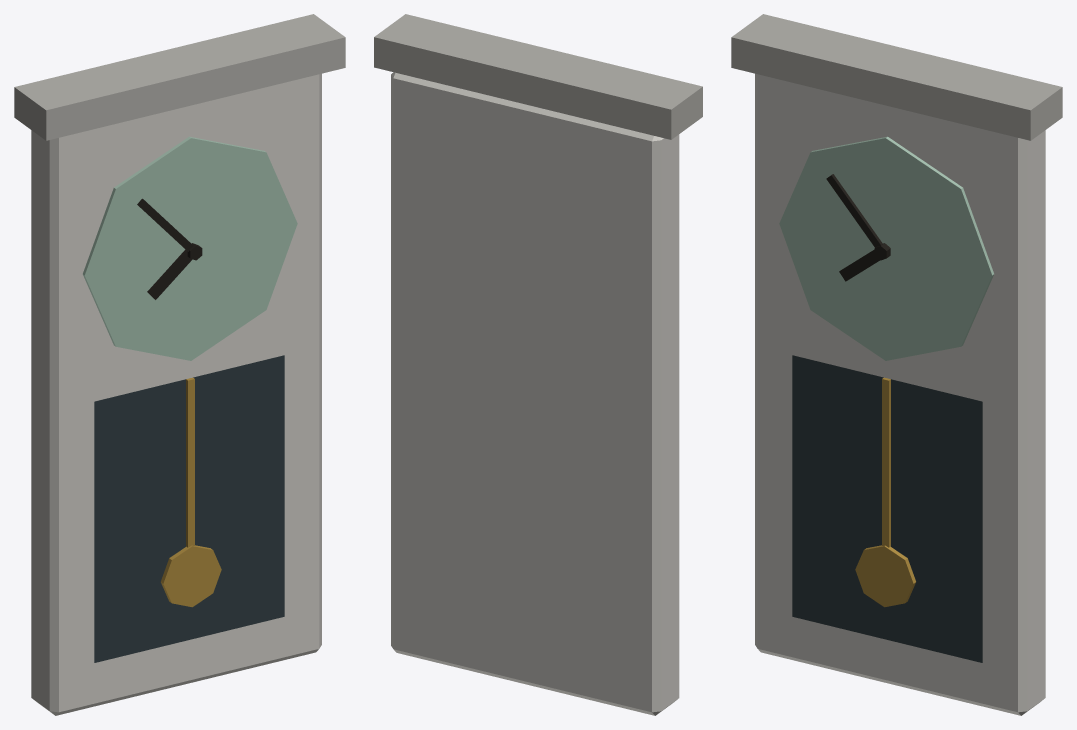
The model's file is wall-clock-22.glb.
3 renders of one model, left to right at view 1: azimuth 30°, elevation 25°; view 2: azimuth 150°, elevation 25°; view 3: azimuth 330°, elevation 25°, orthographic.
Parts seen in each view (by area): view 1: wall_clock_22; view 2: wall_clock_22; view 3: wall_clock_22.
Boxes of the visible parts, x1,y1,x2,y2 form: wall_clock_22: (14, 14, 345, 715); wall_clock_22: (374, 14, 702, 715); wall_clock_22: (731, 14, 1062, 715).
Bounding box in the file's own units: 0.5127 × 1.01 × 0.0955.
